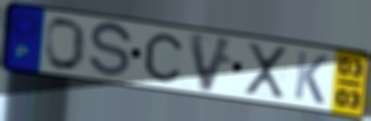C: (143, 31, 185, 84)
K: (291, 49, 330, 107)
O: (44, 16, 88, 73)
S: (86, 21, 135, 81)
V: (187, 30, 237, 95)
X: (244, 41, 289, 101)
